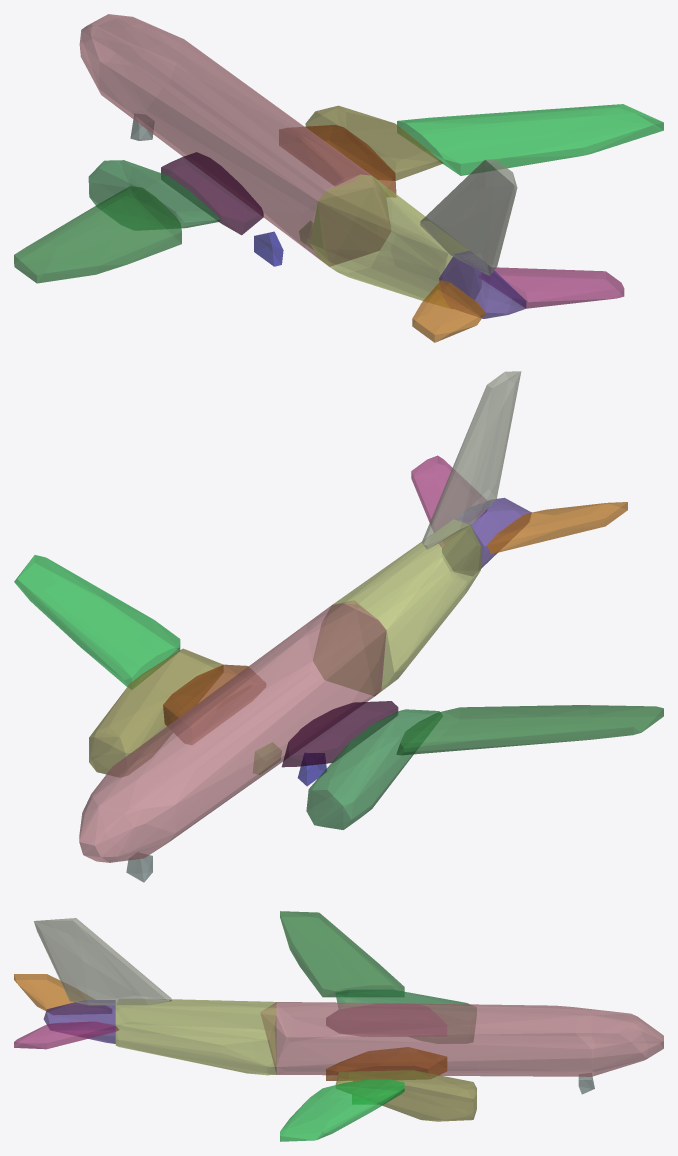
3 renders of one model, top to bottom at view 1: azimuth 30°, elevation 25°; view 2: azimuth 150°, elevation 25°; view 3: azimuth 270°, elevation 25°, orthographic. The views are drawn at different scales.
Parts seen in each view (by area): view 1: Shape_IndexedFaceSet.004, Shape_IndexedFaceSet.002, Shape_IndexedFaceSet.001, Shape_IndexedFaceSet.003, Shape_IndexedFaceSet, Shape_IndexedFaceSet.008, Shape_IndexedFaceSet.006, Shape_IndexedFaceSet.005, Shape_IndexedFaceSet.009, Shape_IndexedFaceSet.007, Shape_IndexedFaceSet.012, Shape_IndexedFaceSet.011 (+2 smaller); view 2: Shape_IndexedFaceSet.004, Shape_IndexedFaceSet.002, Shape_IndexedFaceSet.001, Shape_IndexedFaceSet.003, Shape_IndexedFaceSet.006, Shape_IndexedFaceSet.008, Shape_IndexedFaceSet, Shape_IndexedFaceSet.005, Shape_IndexedFaceSet.009, Shape_IndexedFaceSet.012, Shape_IndexedFaceSet.011, Shape_IndexedFaceSet.007; view 3: Shape_IndexedFaceSet.004, Shape_IndexedFaceSet.002, Shape_IndexedFaceSet, Shape_IndexedFaceSet.003, Shape_IndexedFaceSet.006, Shape_IndexedFaceSet.001, Shape_IndexedFaceSet.009, Shape_IndexedFaceSet.005, Shape_IndexedFaceSet.008, Shape_IndexedFaceSet.012, Shape_IndexedFaceSet.011, Shape_IndexedFaceSet.007.
Boxes of the visible parts, bbox=[...] form: Shape_IndexedFaceSet.004: bbox=[79, 14, 390, 266]; Shape_IndexedFaceSet.002: bbox=[310, 174, 480, 308]; Shape_IndexedFaceSet.001: bbox=[397, 104, 663, 175]; Shape_IndexedFaceSet.003: bbox=[14, 186, 181, 283]; Shape_IndexedFaceSet: bbox=[420, 159, 517, 275]; Shape_IndexedFaceSet.008: bbox=[88, 160, 220, 229]; Shape_IndexedFaceSet.006: bbox=[305, 105, 443, 180]; Shape_IndexedFaceSet.005: bbox=[279, 125, 396, 196]; Shape_IndexedFaceSet.009: bbox=[161, 152, 263, 235]; Shape_IndexedFaceSet.007: bbox=[479, 267, 624, 308]; Shape_IndexedFaceSet.012: bbox=[439, 251, 526, 318]; Shape_IndexedFaceSet.011: bbox=[412, 280, 485, 342]; Shape_IndexedFaceSet.004: bbox=[79, 600, 386, 862]; Shape_IndexedFaceSet.002: bbox=[313, 519, 480, 695]; Shape_IndexedFaceSet.001: bbox=[14, 555, 180, 688]; Shape_IndexedFaceSet.003: bbox=[396, 705, 663, 755]; Shape_IndexedFaceSet.006: bbox=[89, 648, 222, 776]; Shape_IndexedFaceSet.008: bbox=[306, 709, 442, 829]; Shape_IndexedFaceSet: bbox=[422, 371, 521, 549]; Shape_IndexedFaceSet.005: bbox=[163, 664, 265, 744]; Shape_IndexedFaceSet.009: bbox=[281, 701, 398, 767]; Shape_IndexedFaceSet.012: bbox=[442, 497, 531, 575]; Shape_IndexedFaceSet.011: bbox=[487, 502, 627, 554]; Shape_IndexedFaceSet.007: bbox=[411, 455, 486, 547]; Shape_IndexedFaceSet.004: bbox=[260, 1002, 663, 1076]; Shape_IndexedFaceSet.002: bbox=[115, 999, 276, 1075]; Shape_IndexedFaceSet: bbox=[34, 918, 171, 1005]; Shape_IndexedFaceSet.003: bbox=[280, 911, 404, 997]; Shape_IndexedFaceSet.006: bbox=[335, 1070, 476, 1121]; Shape_IndexedFaceSet.001: bbox=[280, 1079, 404, 1141]; Shape_IndexedFaceSet.009: bbox=[326, 1004, 446, 1035]; Shape_IndexedFaceSet.005: bbox=[326, 1047, 447, 1080]; Shape_IndexedFaceSet.008: bbox=[335, 989, 476, 1043]; Shape_IndexedFaceSet.012: bbox=[43, 1000, 115, 1043]; Shape_IndexedFaceSet.011: bbox=[14, 974, 111, 1014]; Shape_IndexedFaceSet.007: bbox=[14, 1021, 118, 1049].
Bounding box in the file's own units: 0.6214 × 0.2263 × 0.7595.
